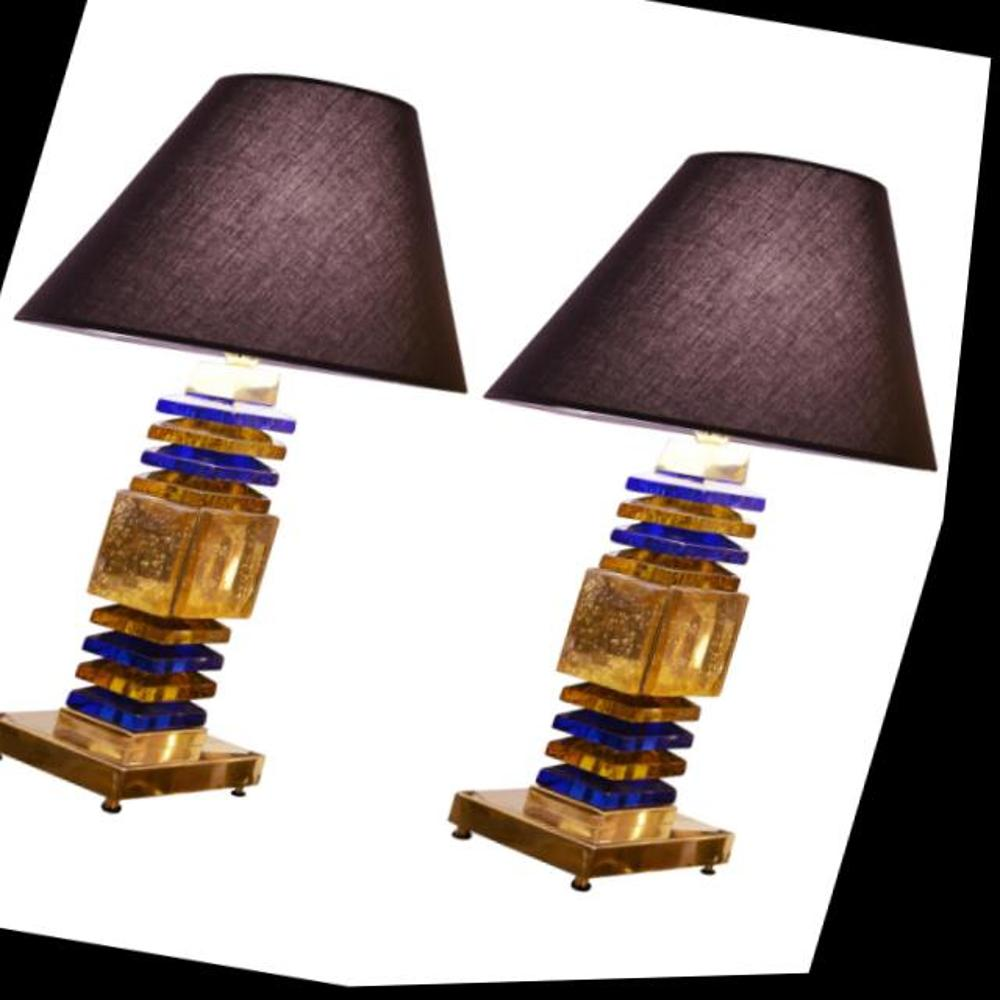shelf: (350, 56, 993, 990), (0, 0, 575, 886)
